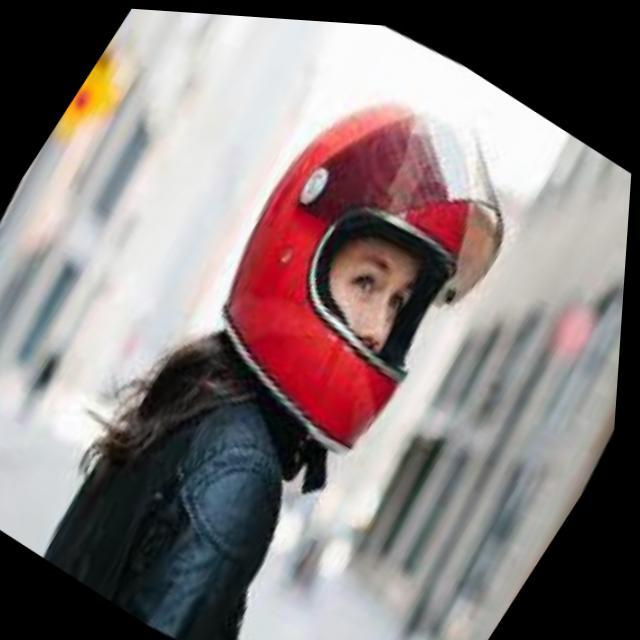Helmet: (215, 90, 508, 465)
